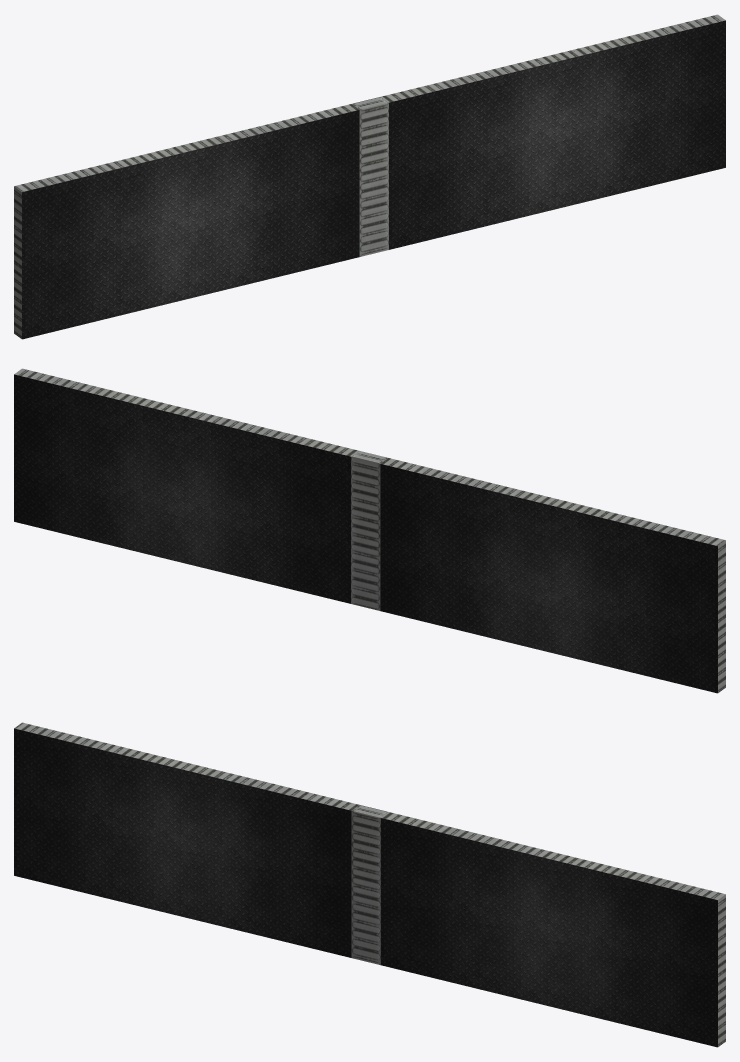
The model's file is Bottom_Lining.fbx.
The picture shows the model from 3 angles, top to bottom: view 1: azimuth 30°, elevation 25°; view 2: azimuth 150°, elevation 25°; view 3: azimuth 330°, elevation 25°; orthographic projection.
Parts seen in each view (by area): view 1: polySurface2; view 2: polySurface2; view 3: polySurface2.
Part boxes in pixels (x1,y1,x2,y2): polySurface2: [14, 14, 725, 339]; polySurface2: [14, 368, 725, 693]; polySurface2: [14, 722, 725, 1047].
Bounding box in the file's own units: 5 × 1 × 0.1.
Materials: 1 (1 with a texture image).
